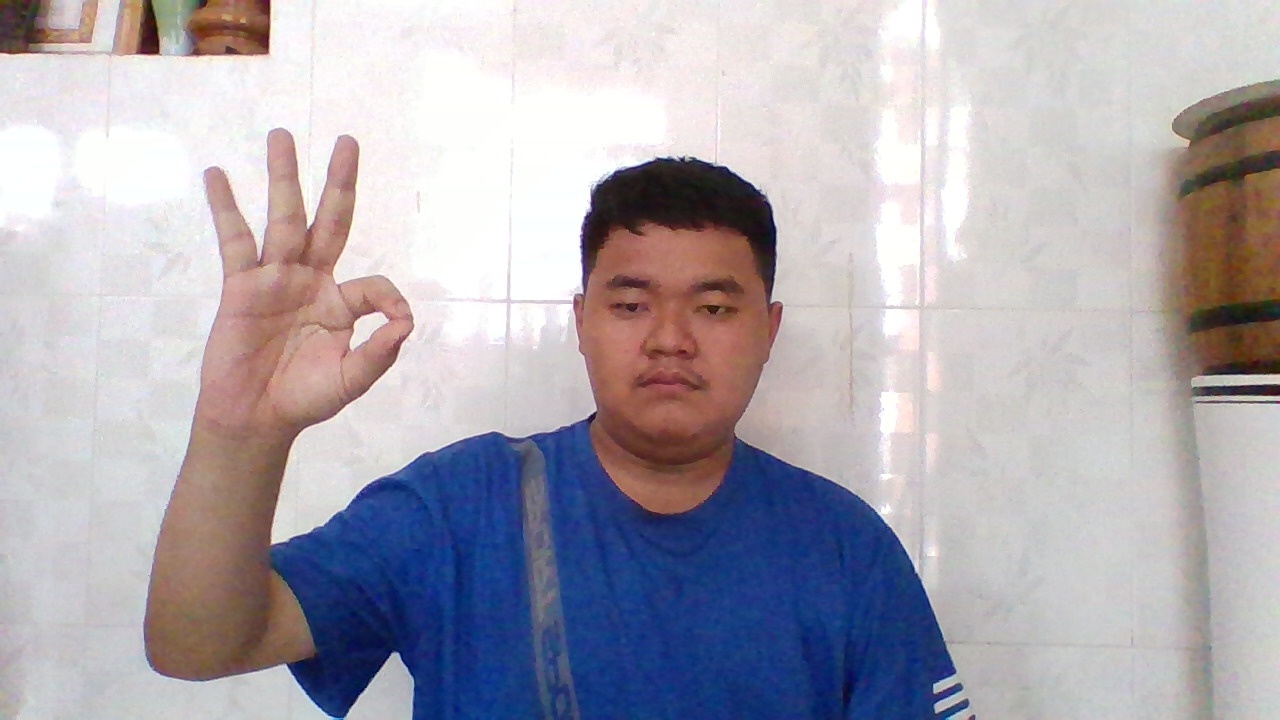T: (195, 122, 422, 442)
